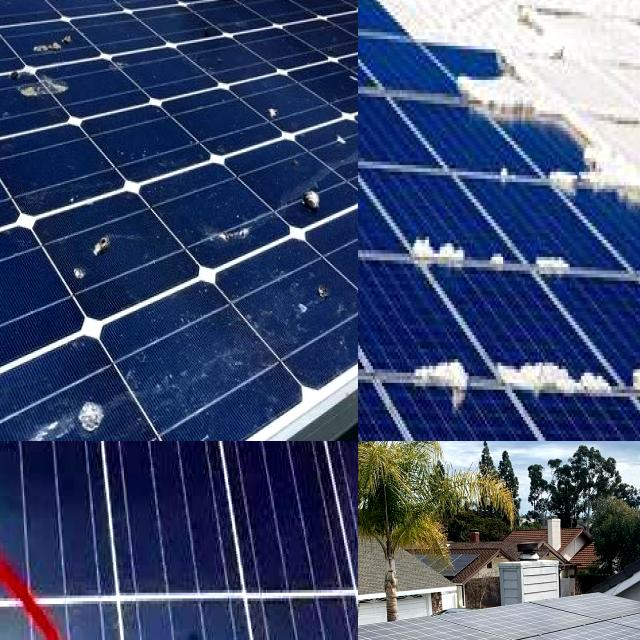bird: (50, 230, 144, 298), (181, 192, 267, 266), (275, 268, 358, 340), (275, 160, 351, 238), (19, 392, 126, 441), (8, 25, 86, 57), (5, 76, 90, 105), (201, 0, 241, 57), (260, 91, 304, 132), (320, 115, 358, 154), (303, 0, 346, 23)
crack: (53, 482, 307, 613)
panel: (492, 336, 618, 429), (457, 49, 563, 125), (373, 0, 517, 54), (542, 147, 636, 215), (358, 253, 406, 382), (397, 219, 510, 272), (540, 0, 640, 57), (358, 0, 473, 38), (402, 352, 474, 409), (358, 310, 399, 384), (532, 222, 578, 284), (358, 192, 403, 255), (358, 155, 385, 243), (358, 0, 404, 39), (358, 121, 384, 181), (358, 0, 376, 57)
